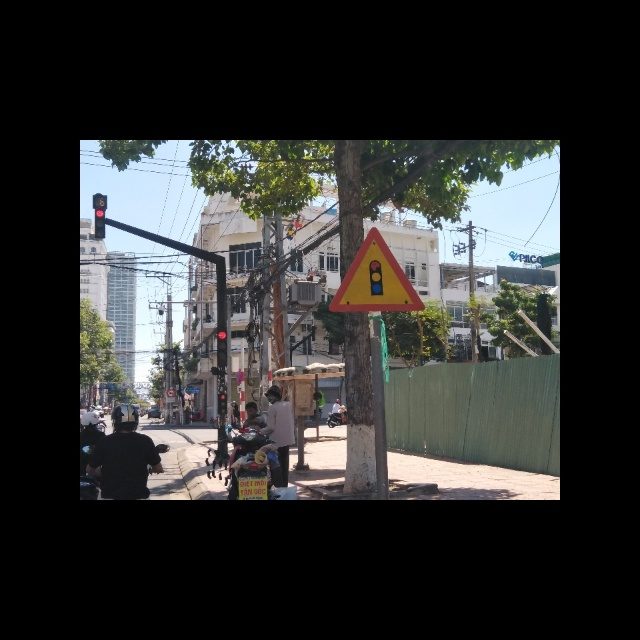Giao nhau có tín hiệu đèn: (325, 228, 429, 316)
Đèn đỏ: (217, 330, 227, 339)
